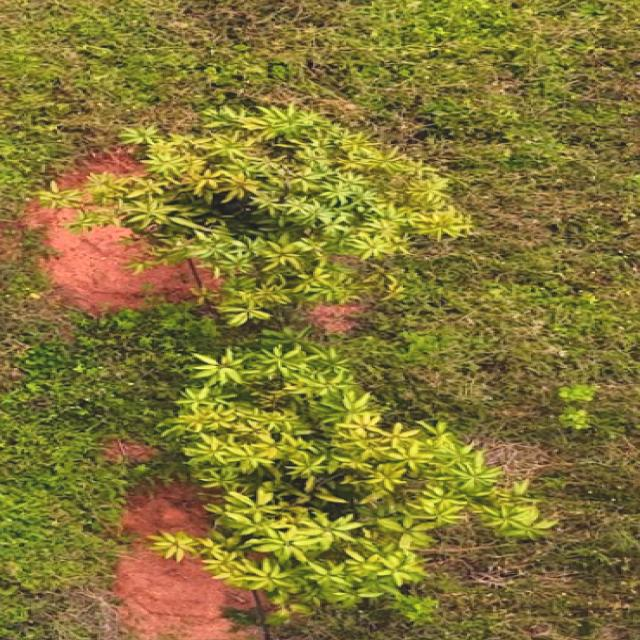mangoTree: (140, 337, 552, 623), (40, 96, 467, 327)
